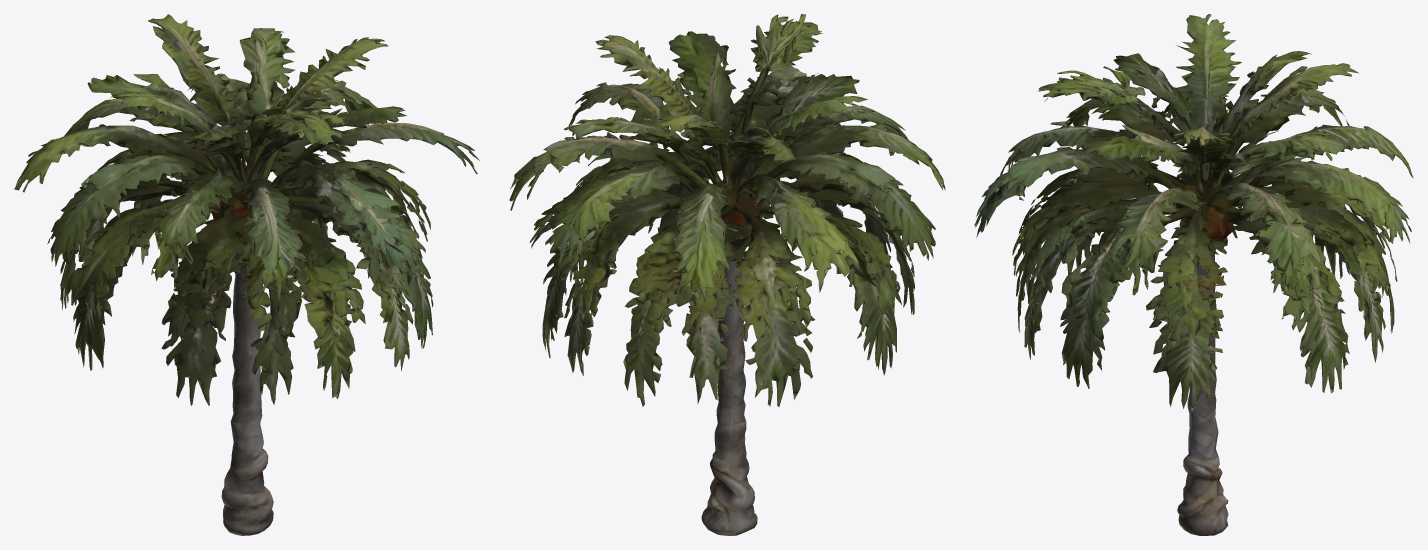
Rendered from nature-tree-palm.glb.
The picture shows the model from 3 angles, left to right: view 1: azimuth 30°, elevation 25°; view 2: azimuth 150°, elevation 25°; view 3: azimuth 270°, elevation 25°; orthographic projection.
Visible parts, largest first — view 1: tripo_node_18e8a436-e19a-443d-9d5c-7fd636a57025; view 2: tripo_node_18e8a436-e19a-443d-9d5c-7fd636a57025; view 3: tripo_node_18e8a436-e19a-443d-9d5c-7fd636a57025.
Boxes of the visible parts, x1,y1,x2,y2 form: tripo_node_18e8a436-e19a-443d-9d5c-7fd636a57025: (14, 14, 479, 535); tripo_node_18e8a436-e19a-443d-9d5c-7fd636a57025: (509, 14, 945, 535); tripo_node_18e8a436-e19a-443d-9d5c-7fd636a57025: (974, 14, 1413, 535).
Bounding box in the file's own units: 6.24 × 7 × 6.15.
Materials: 1 (1 with a texture image).
